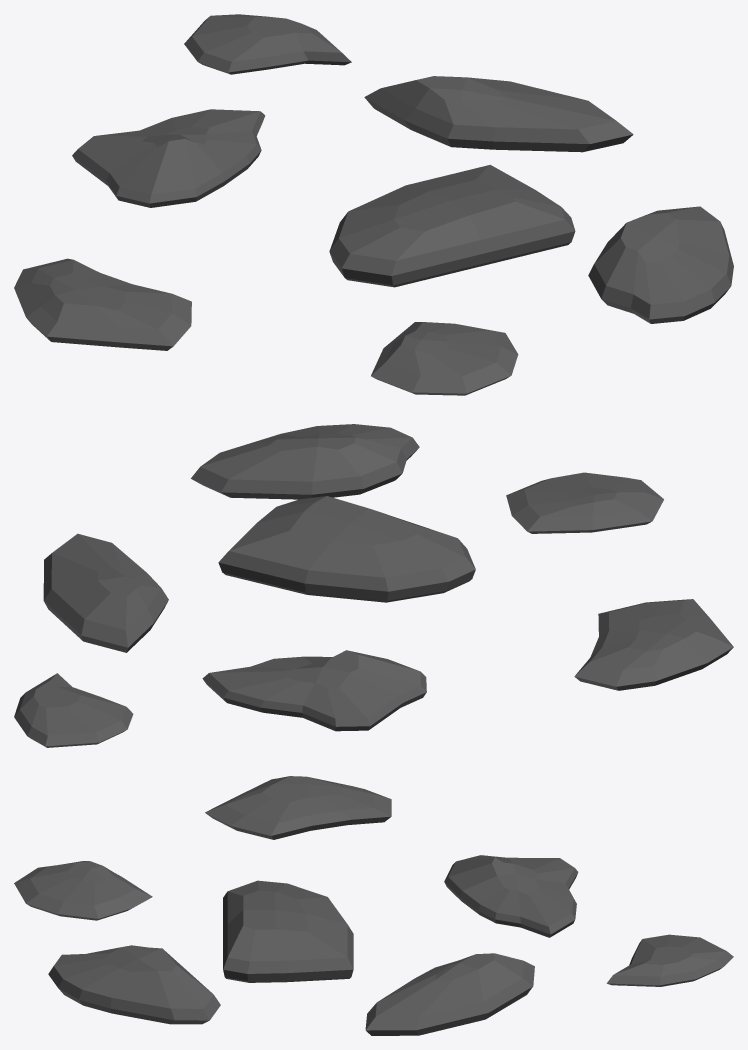
The model's file is palmrock2.glb.
3 views of the same model, one above another, from view 1: azimuth 30°, elevation 25°; view 2: azimuth 150°, elevation 25°; view 3: azimuth 270°, elevation 25° (orthographic). The views are drawn at different scales.
Parts seen in each view (by area): view 1: PalmRock3-col; view 2: PalmRock3-col; view 3: PalmRock3-col.
Boxes of the visible parts, box(x1,y1,x2,y2) form: PalmRock3-col: box(14, 14, 733, 395); PalmRock3-col: box(14, 424, 733, 747); PalmRock3-col: box(14, 776, 733, 1035).
Bounding box in the file's own units: 1.09 × 0.076 × 1.31.
Materials: 1 (1 with a texture image).
